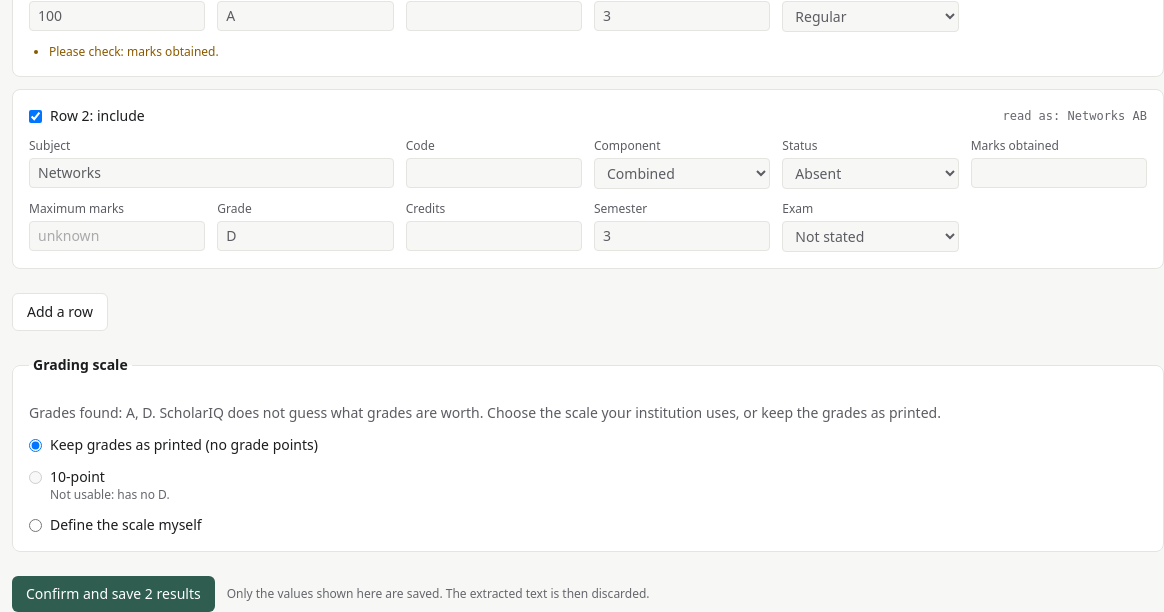
it: ReviewForm › requires points for every grade in a custom scale
(page scrolled)
Click the radio button labelled "Define the scale myself": (36, 526) [29,519,42,532]
(page scrolled)
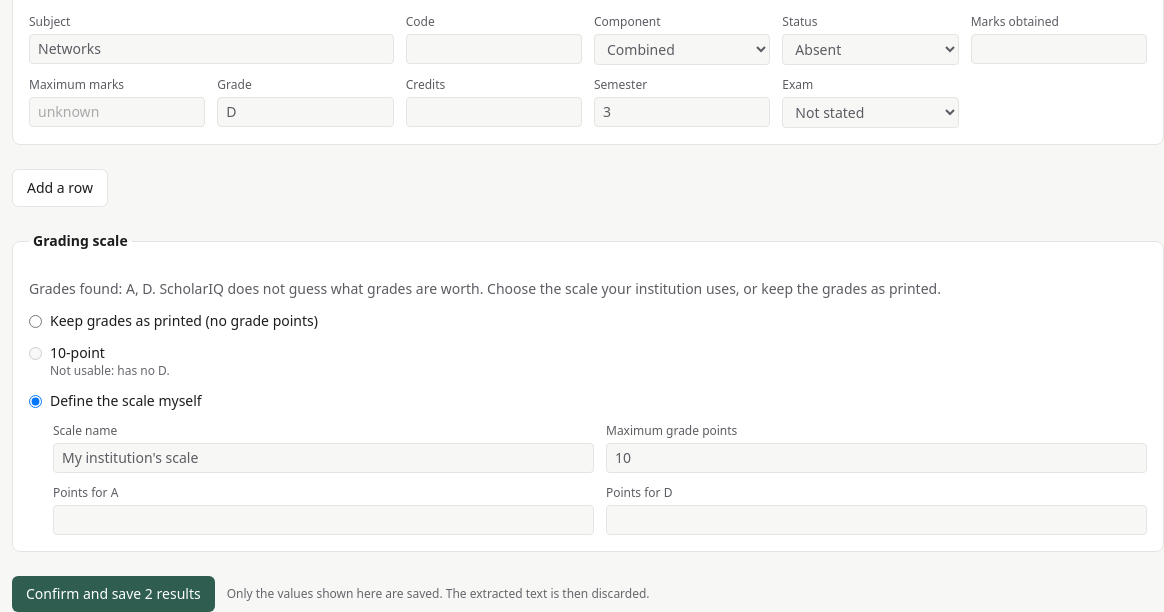
Click the button "Confirm and save 2 results": (113, 594) [12,576,215,611]
(page scrolled)
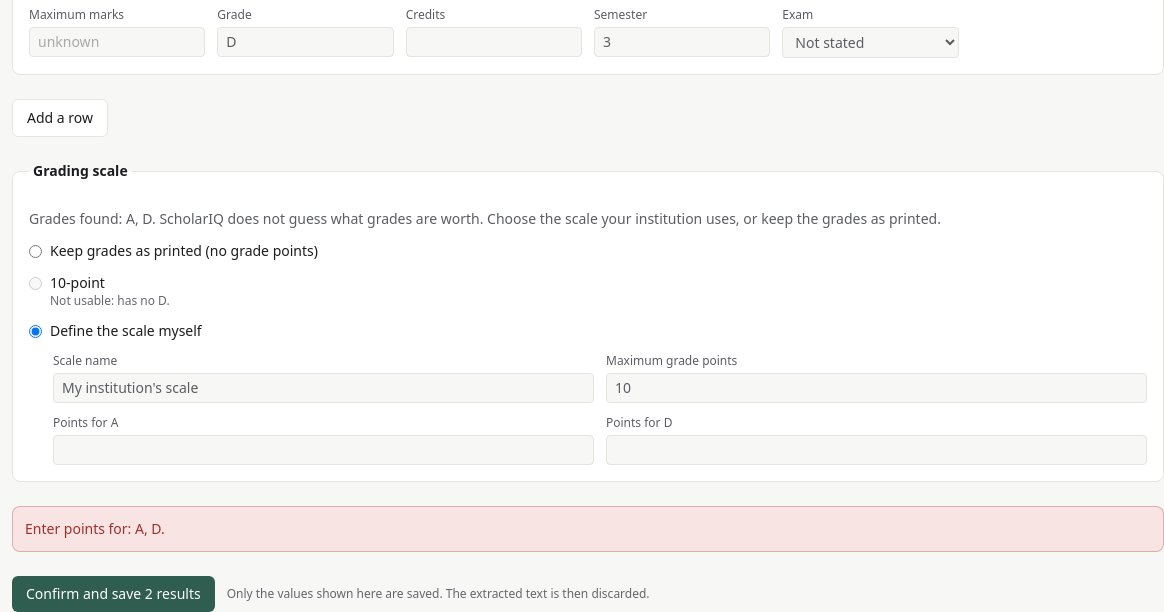
Result: the message reads "Enter points for: A, D." at [25,519,165,538]
